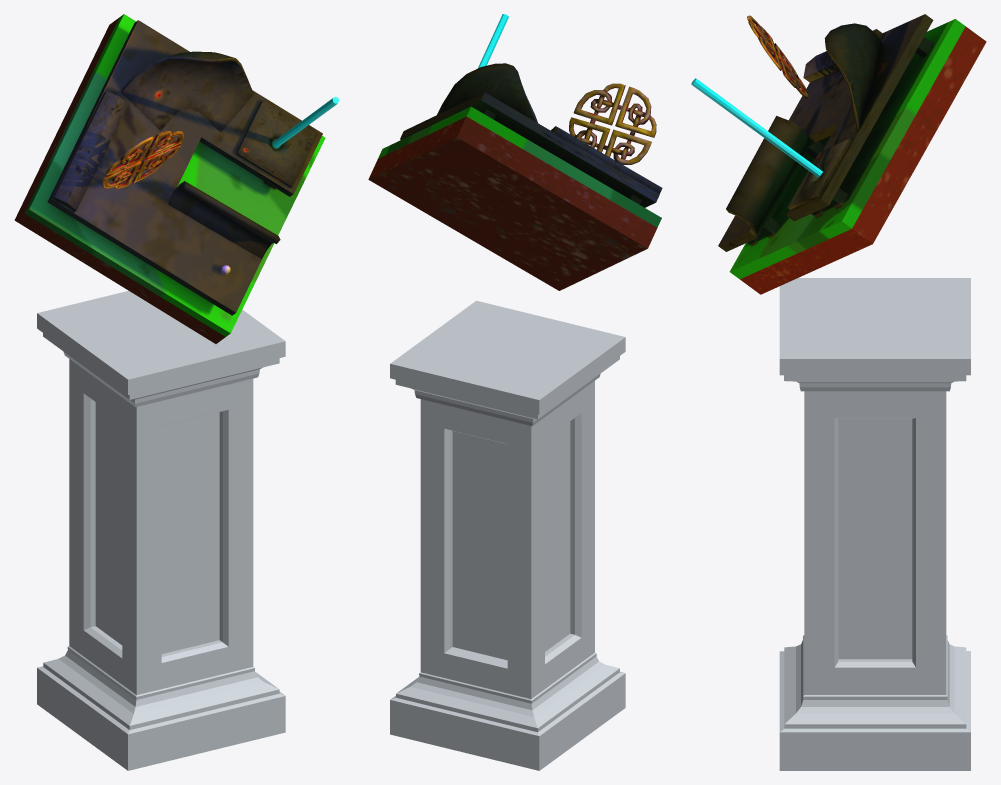
Rendered from land_mountain.gltf.
3 views of the same model, side by side, from view 1: azimuth 30°, elevation 25°; view 2: azimuth 150°, elevation 25°; view 3: azimuth 270°, elevation 25° (orthographic). The views are drawn at different scales.
Parts seen in each view (by area): view 1: land_mountain; view 2: land_mountain; view 3: land_mountain.
Boxes of the visible parts, x1,y1,x2,y2 form: land_mountain: [14, 14, 339, 770]; land_mountain: [368, 14, 662, 770]; land_mountain: [691, 14, 986, 770].
Size of what is drawn, in the model's own units: 1.11 by 2.44 by 0.91.
Materials: 2 (2 with a texture image).
